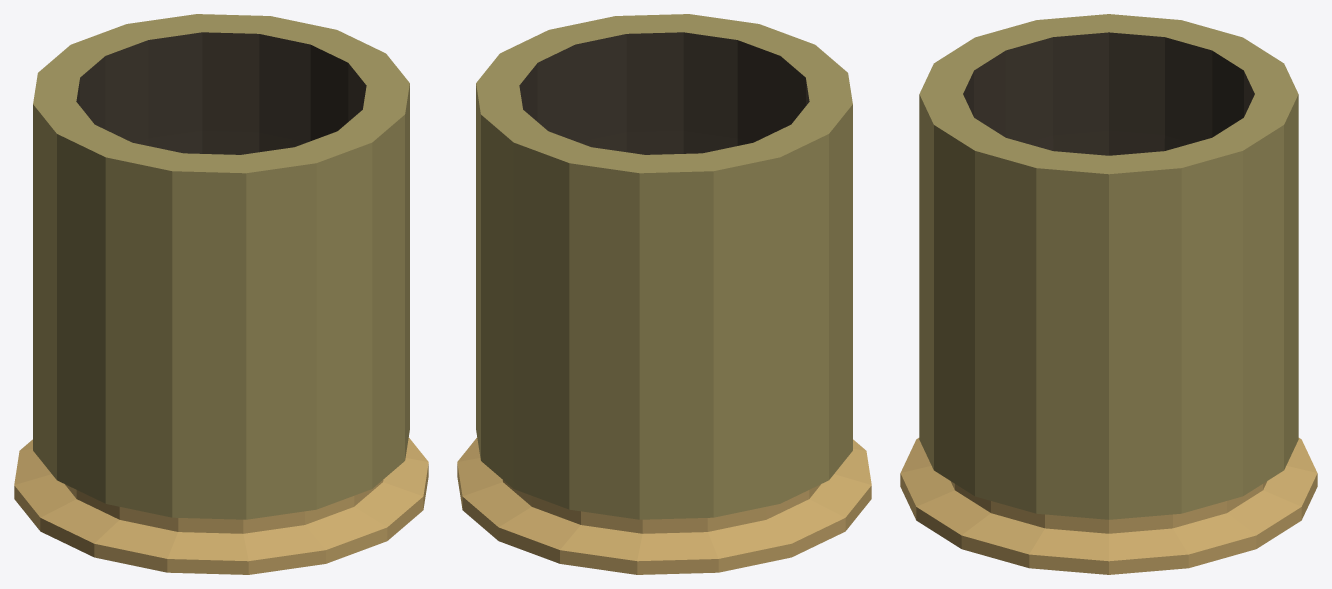
File: GrenadeLauncher_SpentCase.glb
3 views of the same model, side by side, from view 1: azimuth 30°, elevation 25°; view 2: azimuth 150°, elevation 25°; view 3: azimuth 270°, elevation 25° (orthographic).
Visible parts, largest first — view 1: GrenadeLauncher_SpentCase; view 2: GrenadeLauncher_SpentCase; view 3: GrenadeLauncher_SpentCase.
Boxes of the visible parts, x1,y1,x2,y2 form: GrenadeLauncher_SpentCase: [14, 14, 428, 574]; GrenadeLauncher_SpentCase: [457, 14, 871, 574]; GrenadeLauncher_SpentCase: [900, 14, 1317, 574].
Size of the model in its own units: 0.0462 by 0.0485 by 0.0462.
